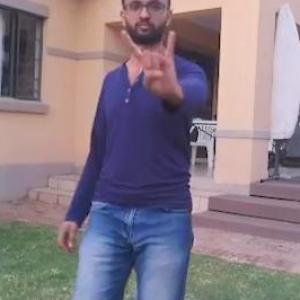takeoff-hand: (118, 15, 188, 96)
